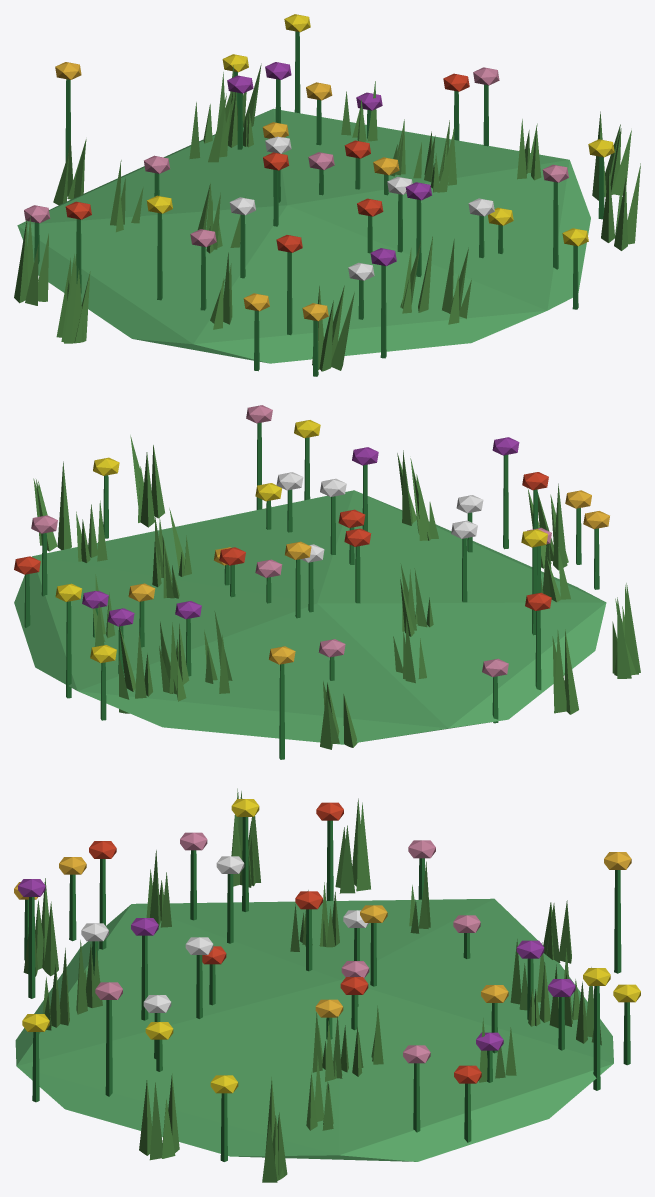
The model's file is lair-flowers.glb.
3 views of the same model, one above another, from view 1: azimuth 30°, elevation 25°; view 2: azimuth 150°, elevation 25°; view 3: azimuth 270°, elevation 25° (orthographic). The views are drawn at different scales.
Parts seen in each view (by area): view 1: lair-flowers; view 2: lair-flowers; view 3: lair-flowers.
Boxes of the visible parts, box(x1,y1,x2,y2) form: lair-flowers: box(14, 14, 640, 376); lair-flowers: box(14, 405, 640, 759); lair-flowers: box(14, 788, 640, 1182).
Size of the model in its own units: 4.08 by 0.8002 by 3.47.
